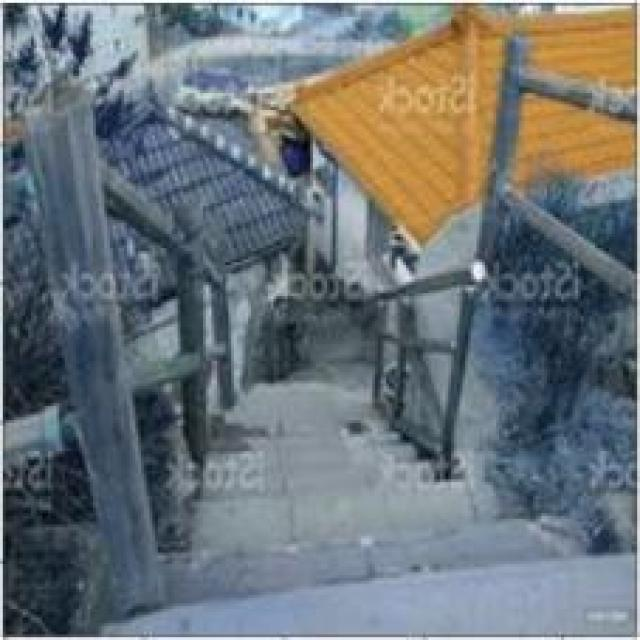downstair: (156, 446, 534, 610)
